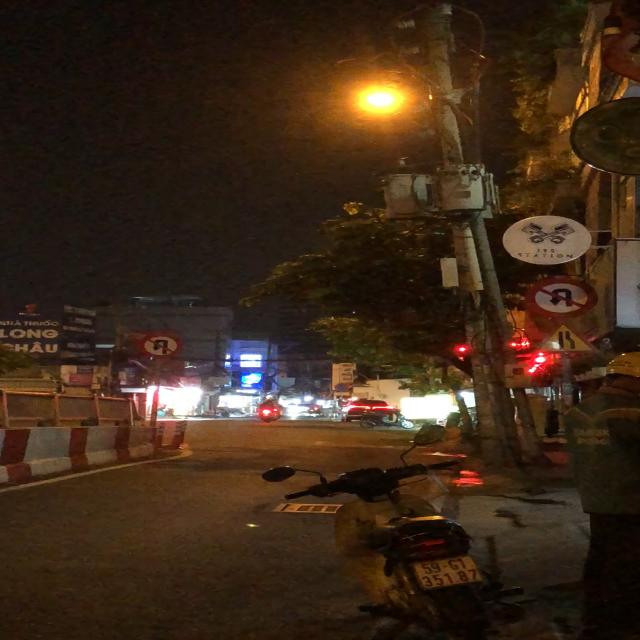Bien bao cam quay dau xe: (520, 274, 600, 316), (139, 330, 185, 360)
Bien bao duong bi thu hep: (529, 320, 597, 356)
